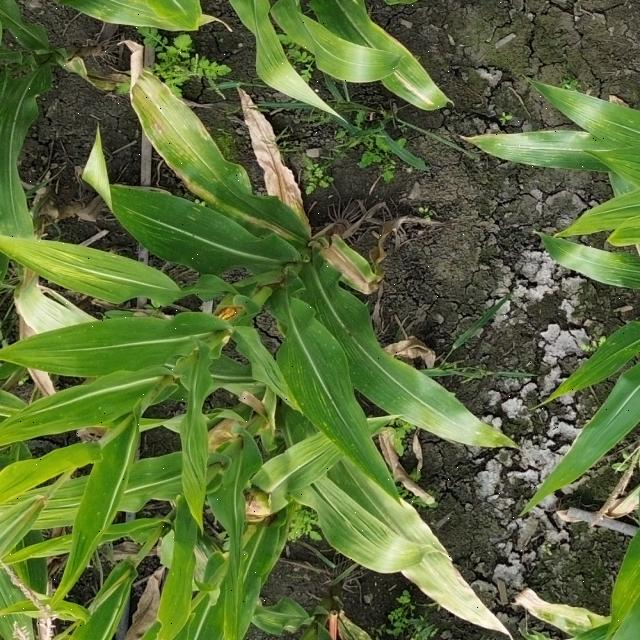gray-leaf-spot: (110, 79, 252, 260)
northern-leaf-blight: (355, 501, 478, 640), (371, 41, 468, 130)
southern-leaf-blight: (257, 319, 448, 471), (40, 382, 139, 542), (27, 319, 114, 404)
